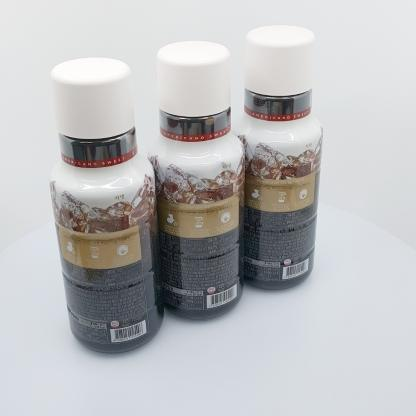--------------1-1L: (49, 57, 164, 353), (145, 41, 245, 320), (231, 25, 323, 290)
